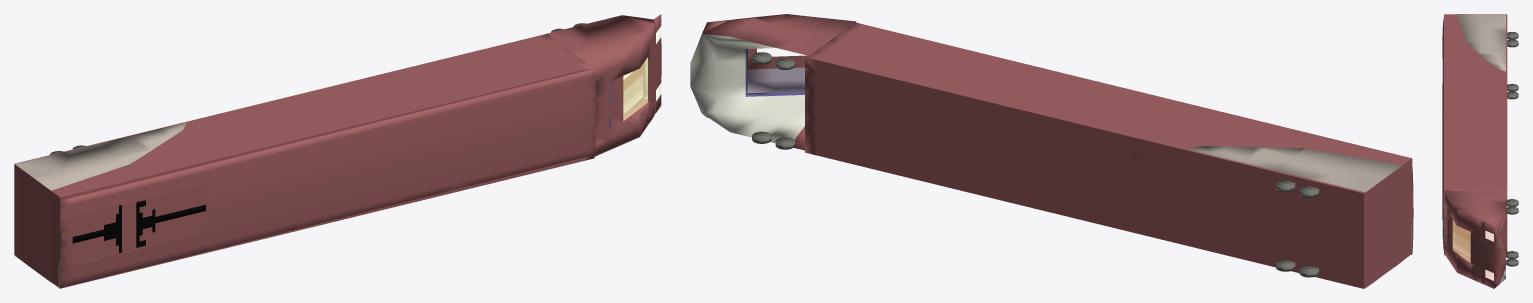
Rendered from asset7.glb.
3 views of the same model, side by side, from view 1: azimuth 30°, elevation 25°; view 2: azimuth 150°, elevation 25°; view 3: azimuth 270°, elevation 25° (orthographic). The views are drawn at different scales.
Visible parts, largest first — view 1: Cylinder2, Cube1_copy12, Cylinder13, Cylinder13_copy14, Cube13_copy14, Cube13_copy16; view 2: Cube1_copy12, Cylinder13, Cylinder13_copy14; view 3: Cube1_copy12, Cylinder13, Cylinder13_copy14, Cylinder2, Cylinder4_copy7, Cylinder4_copy6, Cylinder4_copy11, Cylinder4_copy10, Cylinder4_copy9, Cylinder4_copy8, Cylinder4_copy5, Cylinder4.
Part boxes in pixels (x1,y1,x2,y2): Cylinder2: (58,68,595,288); Cube1_copy12: (14,34,594,288); Cylinder13: (547,14,661,156); Cylinder13_copy14: (15,122,186,281); Cube13_copy14: (136,200,155,247); Cube13_copy16: (104,205,121,252); Cube1_copy12: (805,22,1412,288); Cylinder13: (690,14,856,150); Cylinder13_copy14: (1186,146,1402,288); Cube1_copy12: (1444,14,1507,255); Cylinder13: (1444,191,1505,288); Cylinder13_copy14: (1456,14,1505,71); Cylinder2: (1442,18,1444,253); Cylinder4_copy7: (1506,206,1518,214); Cylinder4_copy6: (1506,258,1518,266); Cylinder4_copy11: (1506,199,1518,206); Cylinder4_copy10: (1506,251,1518,258); Cylinder4_copy9: (1507,39,1518,47); Cylinder4_copy8: (1507,91,1518,99); Cylinder4_copy5: (1507,32,1518,39); Cylinder4: (1507,84,1518,91).
Bounding box in the file's own units: 0.9472 × 0.1306 × 0.1417.
